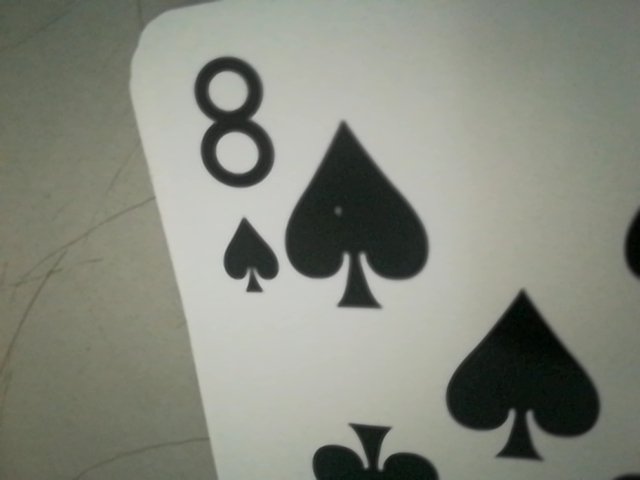ht 8: (185, 26, 297, 272)
